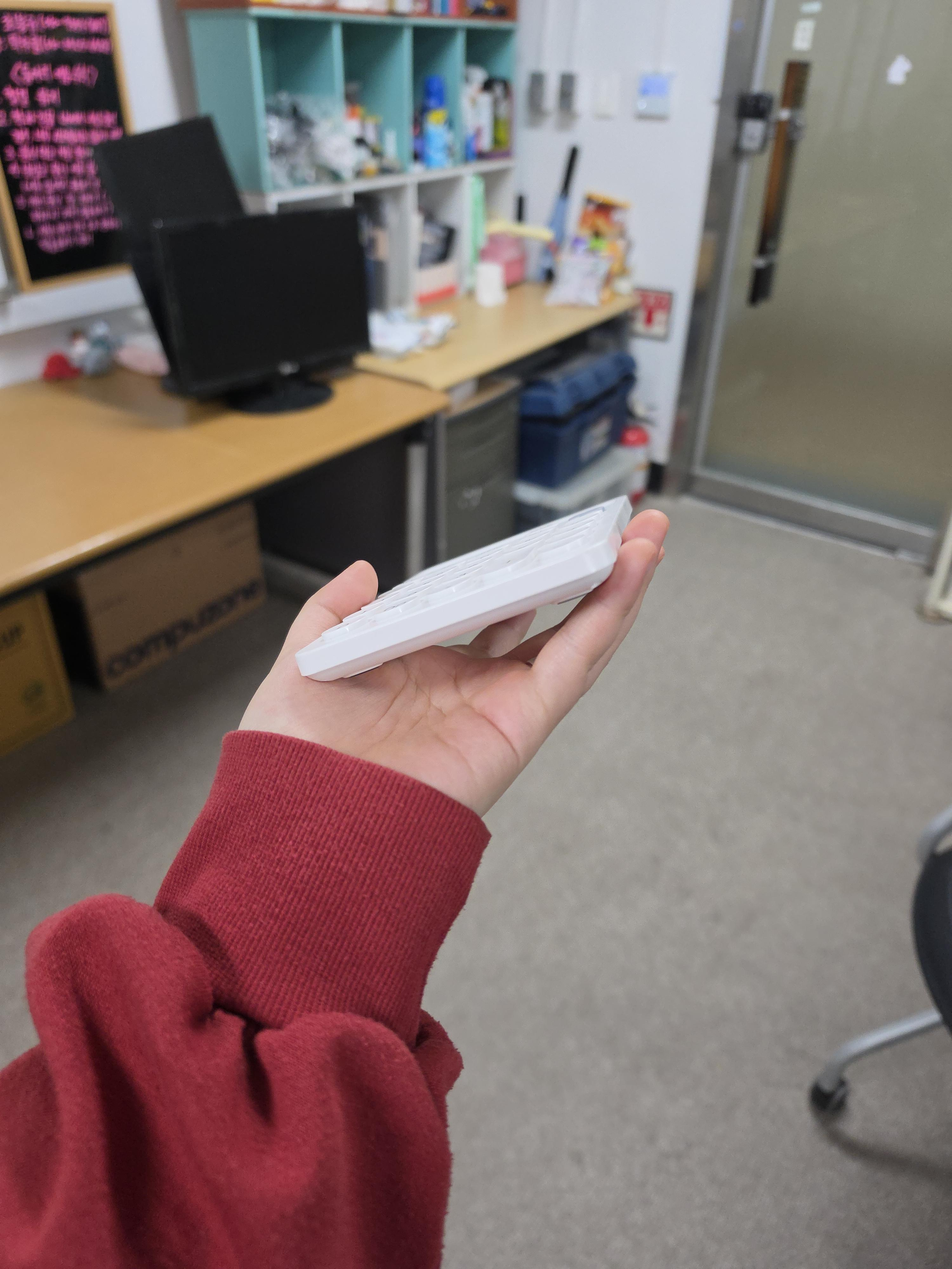calculator: (296, 496, 632, 681)
